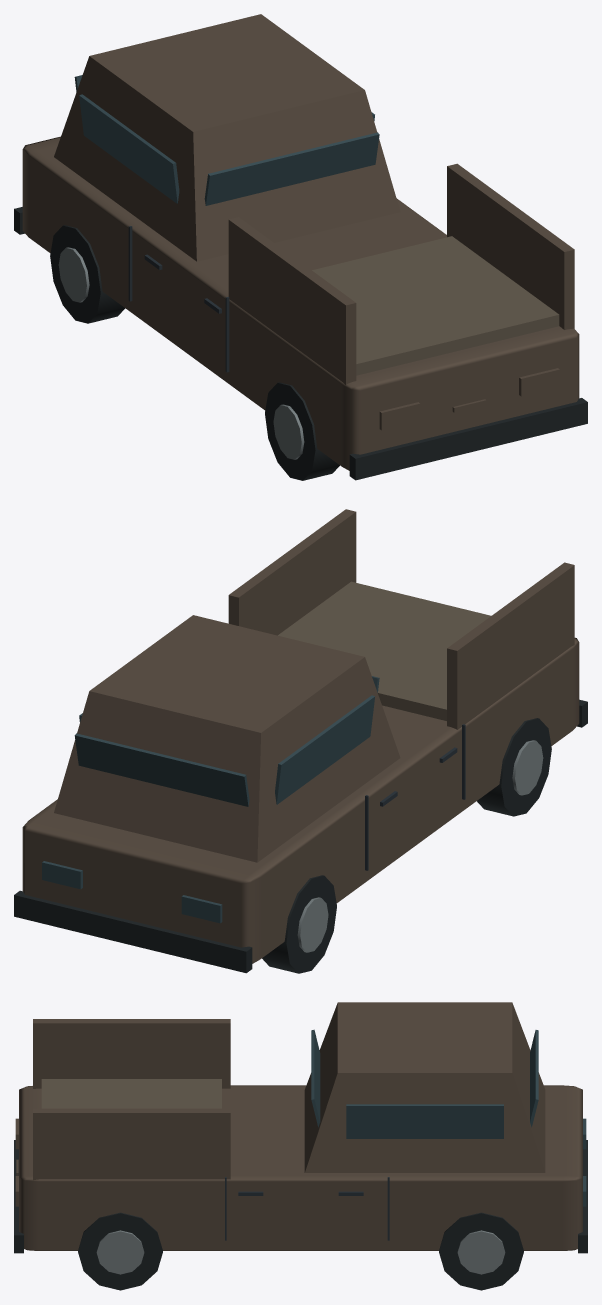
The model's file is pickup-2.glb.
3 views of the same model, one above another, from view 1: azimuth 30°, elevation 25°; view 2: azimuth 150°, elevation 25°; view 3: azimuth 270°, elevation 25° (orthographic). The views are drawn at different scales.
Visible parts, largest first — view 1: pickup/1/KR-230-2; view 2: pickup/1/KR-230-2; view 3: pickup/1/KR-230-2.
Boxes of the visible parts, <box> form: pickup/1/KR-230-2: <box>14,14,587,480</box>; pickup/1/KR-230-2: <box>14,509,587,973</box>; pickup/1/KR-230-2: <box>14,1002,587,1290</box>.
Bounding box in the file's own units: 1.87 × 1.8 × 4.58.
